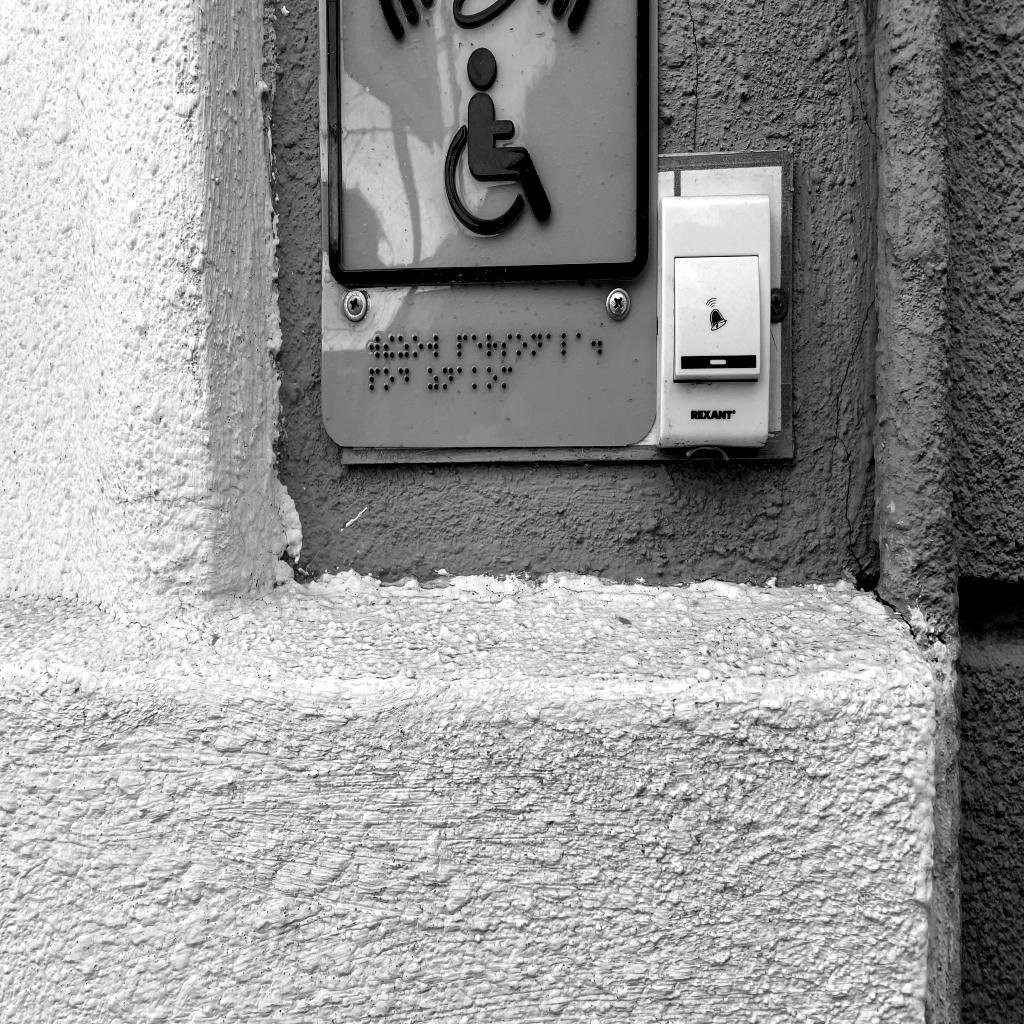_n: (532, 332, 543, 356), (443, 367, 454, 390)
a: (576, 332, 587, 355), (458, 367, 469, 390), (546, 333, 557, 355)
d: (398, 367, 409, 391)
e: (471, 333, 483, 358)
ii: (384, 336, 395, 359)
k: (472, 367, 483, 390)
l: (561, 333, 572, 356)
m: (502, 366, 513, 389)
o: (412, 335, 424, 358), (384, 367, 395, 391), (516, 333, 527, 356), (487, 367, 498, 390)
p: (370, 367, 381, 392), (457, 334, 468, 357)
r: (485, 334, 497, 357)
s: (501, 333, 512, 357)
tochka: (591, 331, 602, 354)
v: (427, 335, 439, 357), (369, 336, 380, 359)
z: (398, 336, 410, 359), (427, 367, 439, 390)
